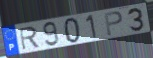0: (63, 17, 82, 44)
1: (85, 14, 98, 40)
3: (126, 6, 146, 33)
9: (43, 20, 61, 48)
P: (103, 10, 124, 37)
R: (18, 25, 41, 52)
